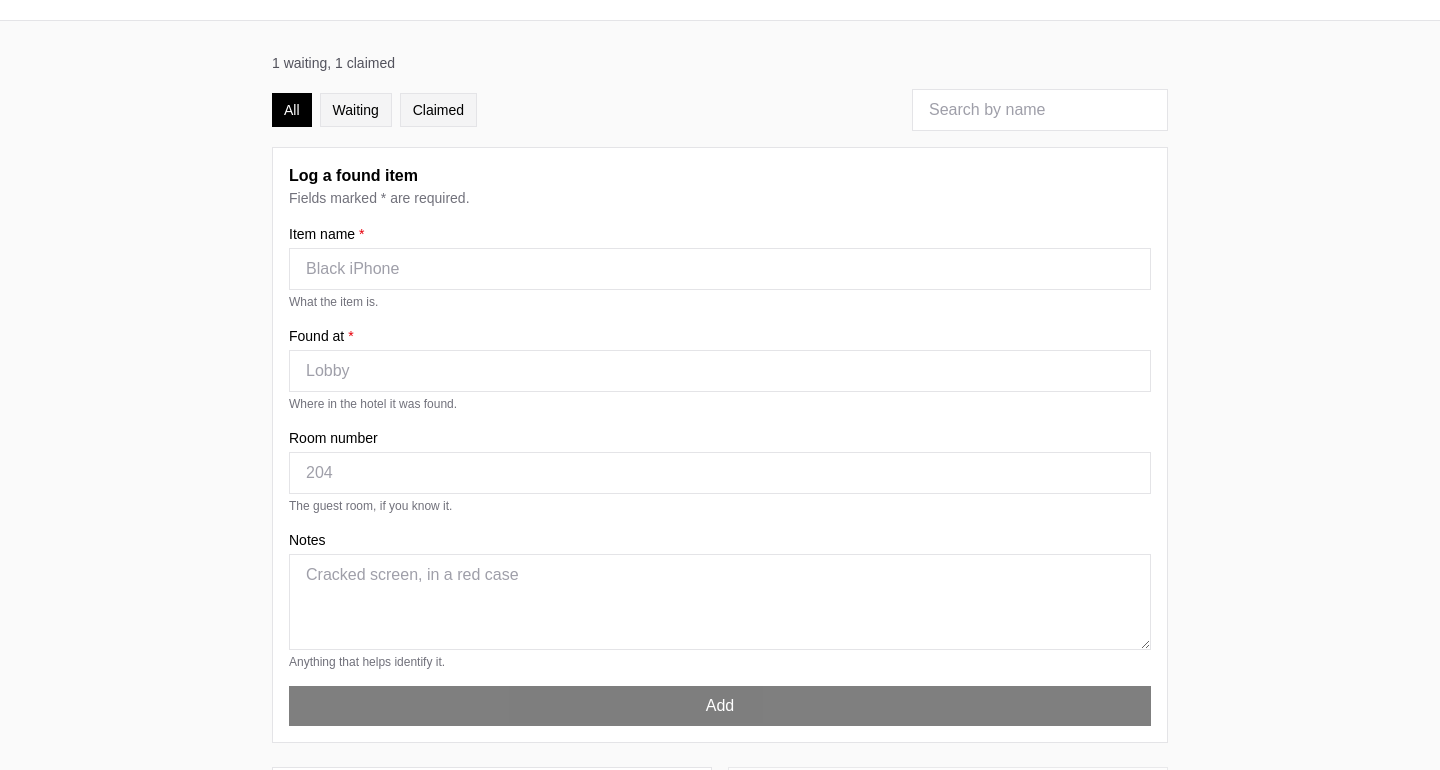
Test: a filter with no matches explains itself
Type "nothing matches this" into the search field labelled "Search by name" at point(1040, 110), box [912,89,1168,131]
(page scrolled)
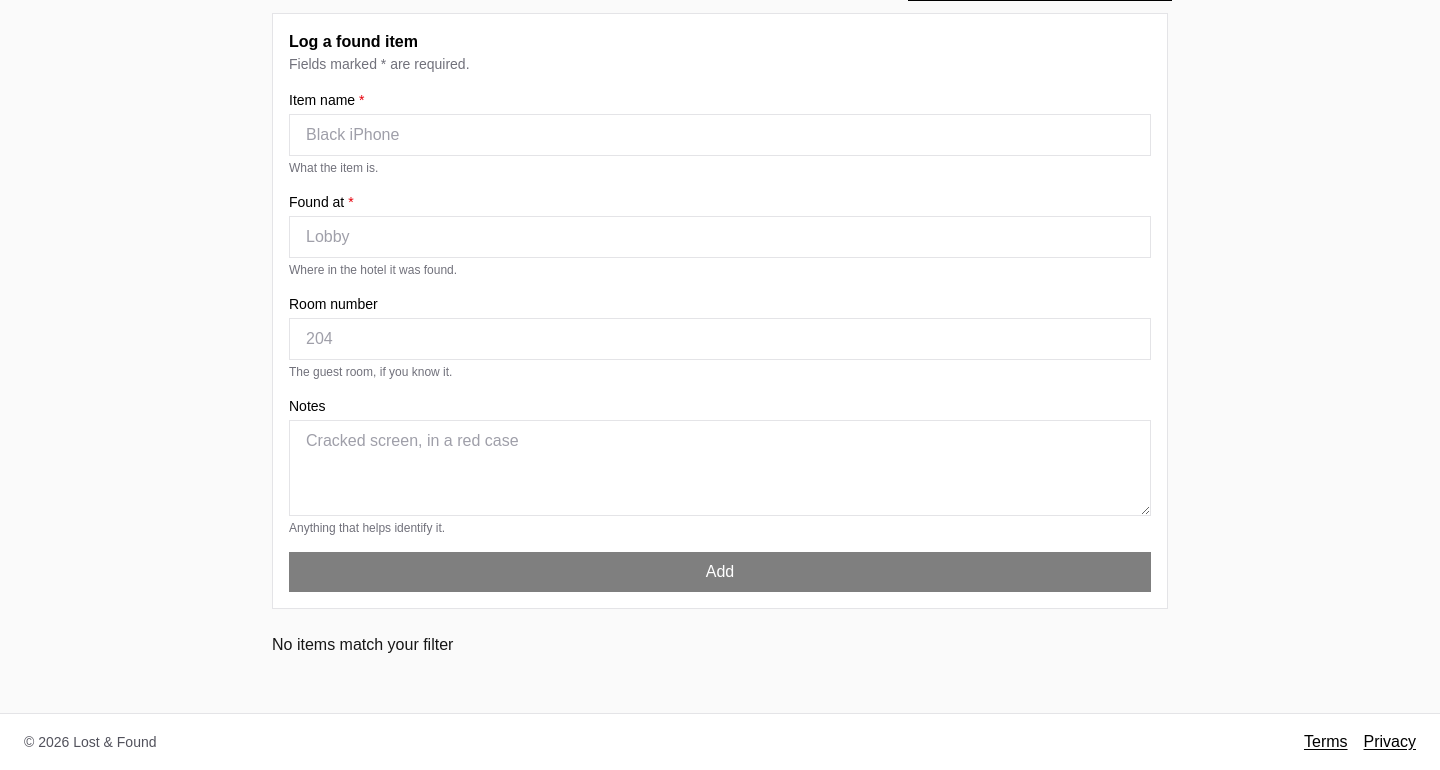
Check: the text "No items match your filter" is shown, box [272,636,453,653]
